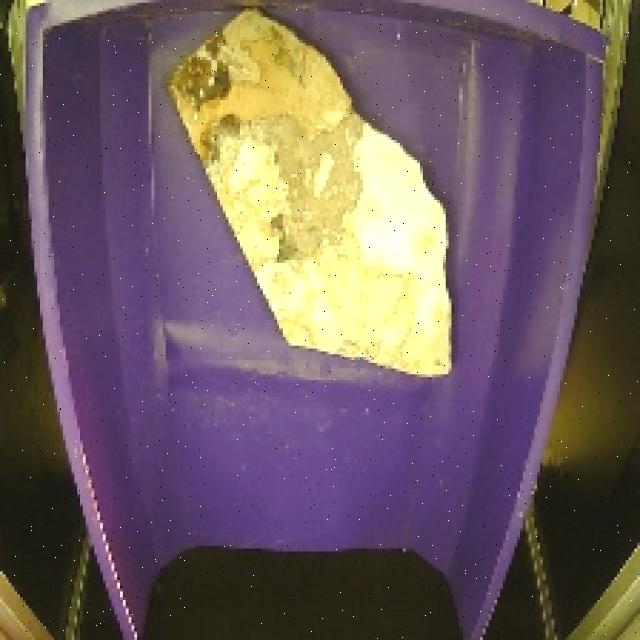china: (159, 0, 470, 391)
